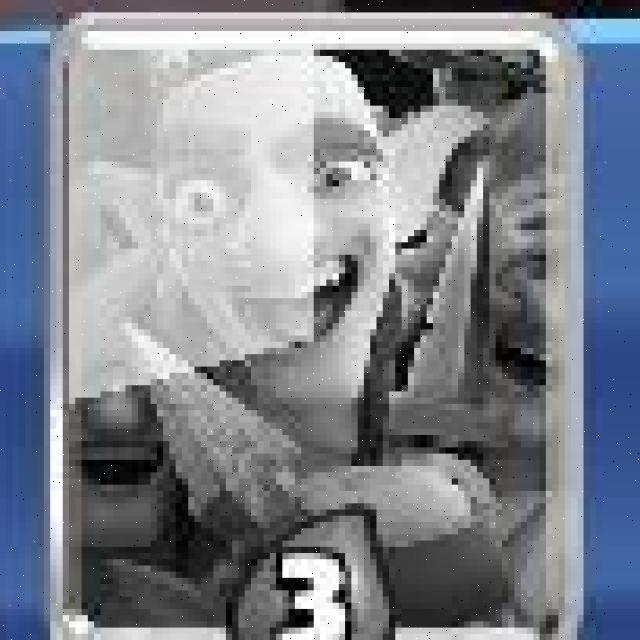Goblin_Gang: (49, 10, 587, 640)
